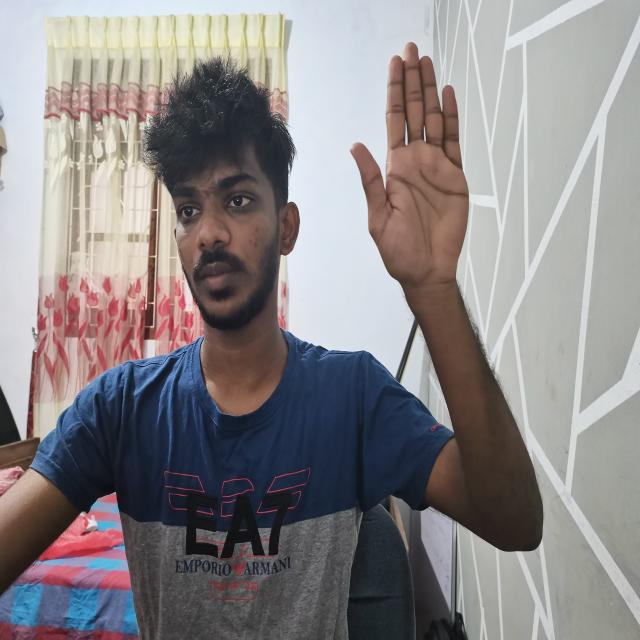Hello: (346, 37, 486, 304)
